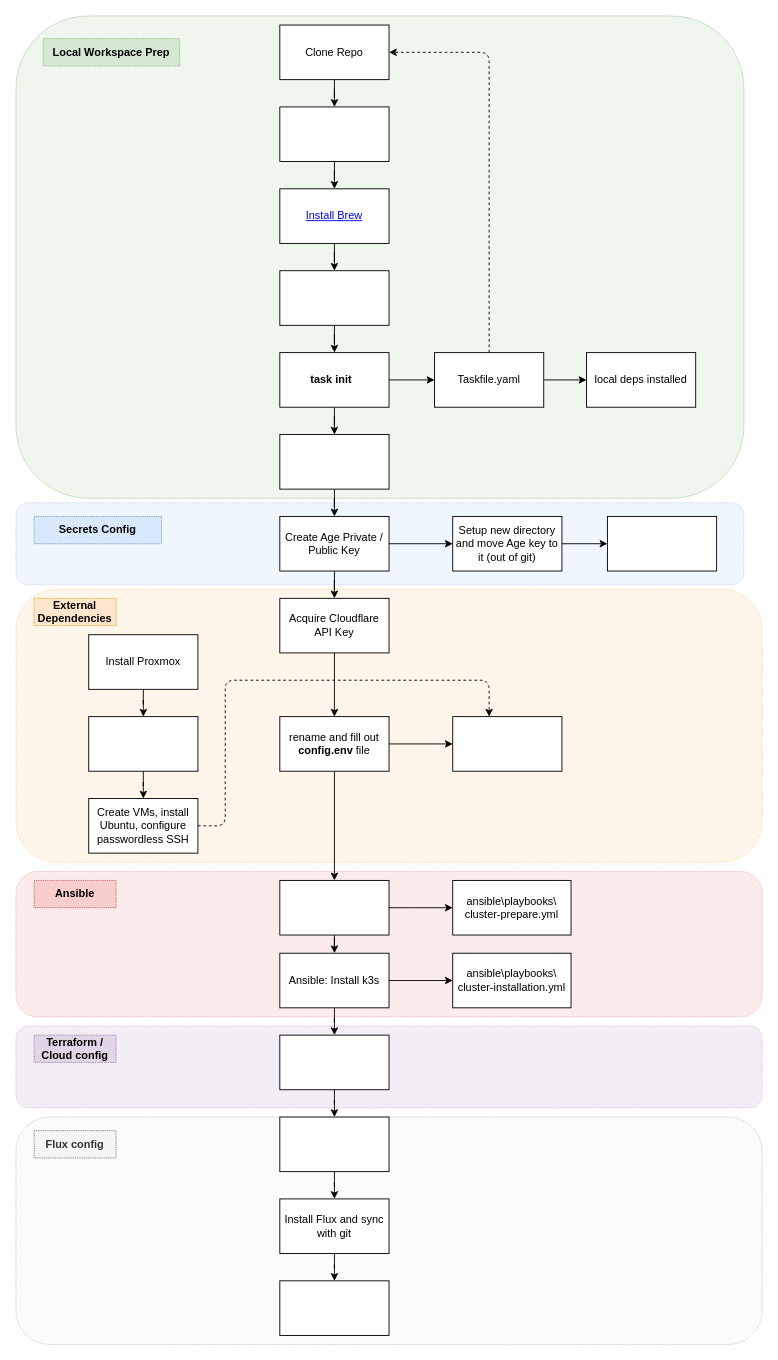
This 778x1360 diagram has some shape labels left out. Each missing label, with the box of its shape:
Ansible: Prep Ubuntu: (279, 880, 389, 935)
bew install go-task: (279, 270, 389, 325)
Configure rook-ceph for VMs: (88, 716, 198, 771)
Export SOPS variable and source it: (607, 516, 717, 571)
Push changes to git: (279, 1116, 389, 1172)
task precommit:init and update: (279, 434, 389, 489)
Terraform: Configure Cloudflare DNS: (279, 1034, 389, 1090)
Verification steps: (279, 1280, 389, 1335)
VMs / hosts are listed here for Ansible to connect to and run bootstrap: (452, 716, 562, 771)
WSL: (279, 106, 389, 162)
